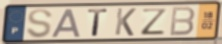A: (50, 8, 83, 39)
B: (168, 6, 196, 38)
K: (113, 7, 138, 37)
S: (25, 8, 54, 40)
T: (87, 8, 109, 37)
Z: (141, 8, 170, 37)
